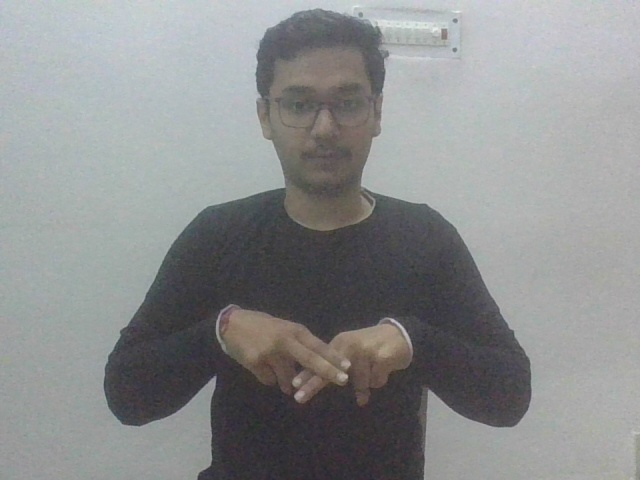F: (221, 298, 416, 412)
